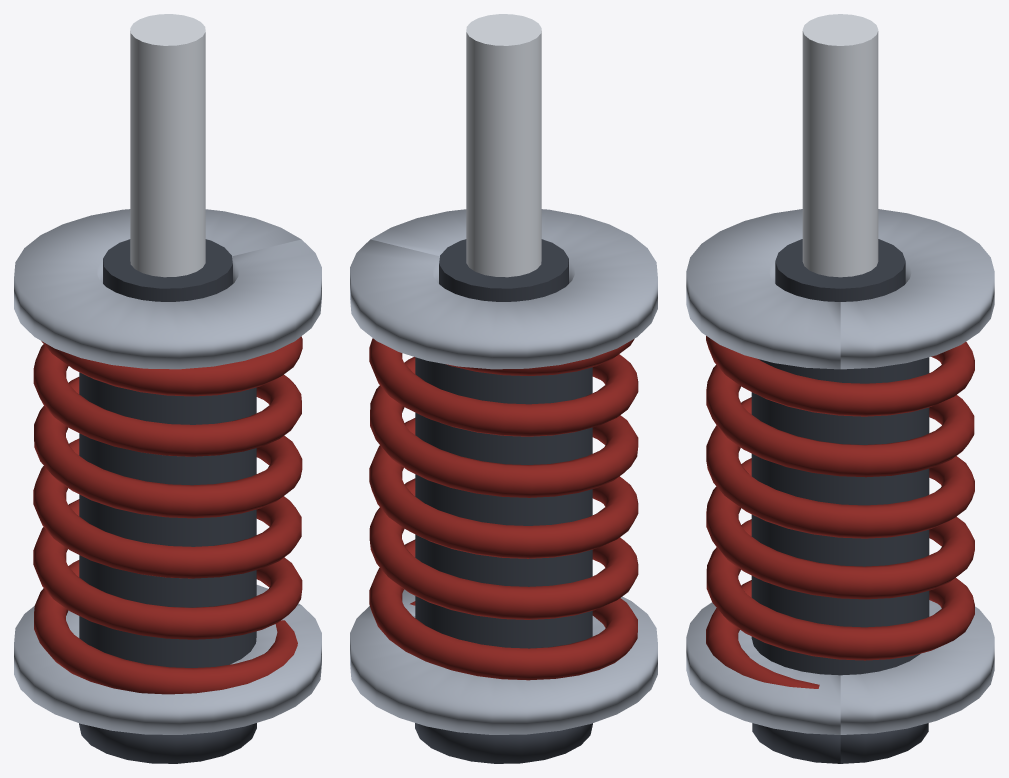
File: kvi-sus-03.glb
The picture shows the model from 3 angles, left to right: view 1: azimuth 30°, elevation 25°; view 2: azimuth 150°, elevation 25°; view 3: azimuth 270°, elevation 25°; orthographic projection.
Parts seen in each view (by area): view 1: Amortiguadores traseros de apoyo; view 2: Amortiguadores traseros de apoyo; view 3: Amortiguadores traseros de apoyo.
Part boxes in pixels (box(x1,y1,x2,y2)): Amortiguadores traseros de apoyo: box(14, 14, 321, 763); Amortiguadores traseros de apoyo: box(350, 14, 657, 763); Amortiguadores traseros de apoyo: box(686, 14, 994, 763).
Size of the model in its own units: 0.4015 by 1 by 0.4015.
